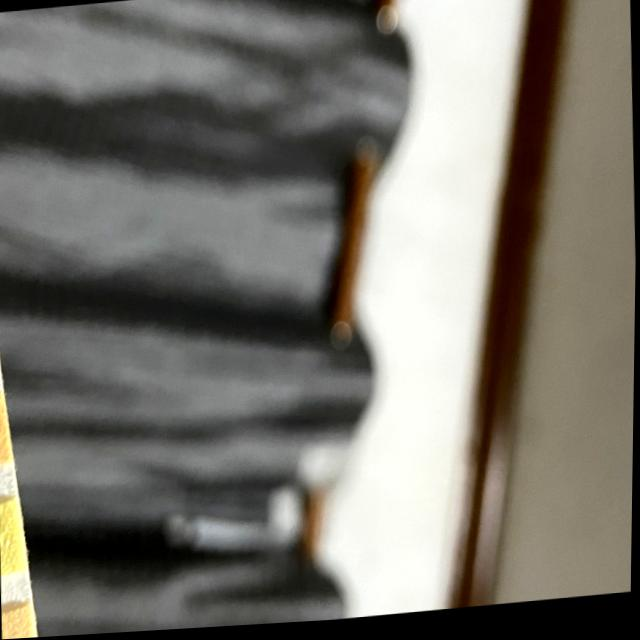Protein: (0, 509, 26, 572)
Urobilinogen: (3, 617, 38, 640)
pH: (0, 402, 9, 463)
